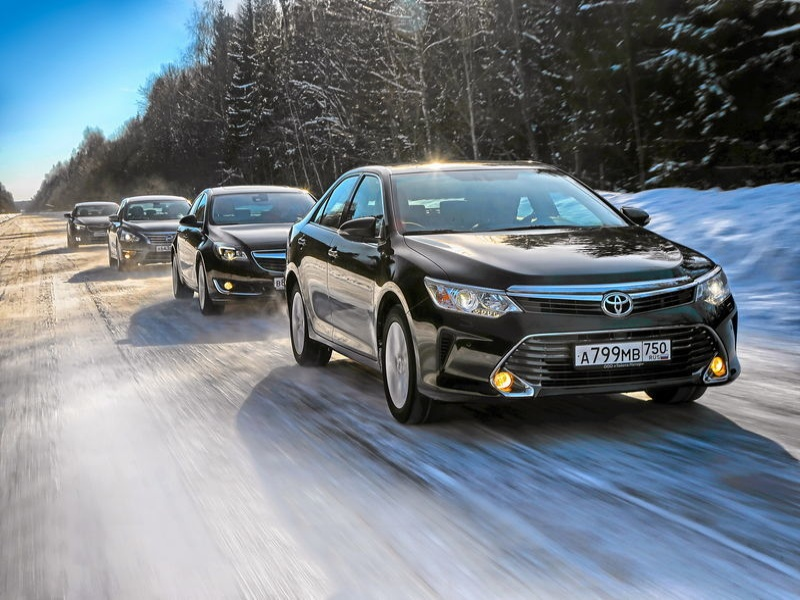car: (285, 159, 741, 421), (171, 185, 319, 316), (109, 194, 193, 273), (64, 202, 119, 247)
plate: (574, 340, 671, 367), (155, 246, 171, 251)
